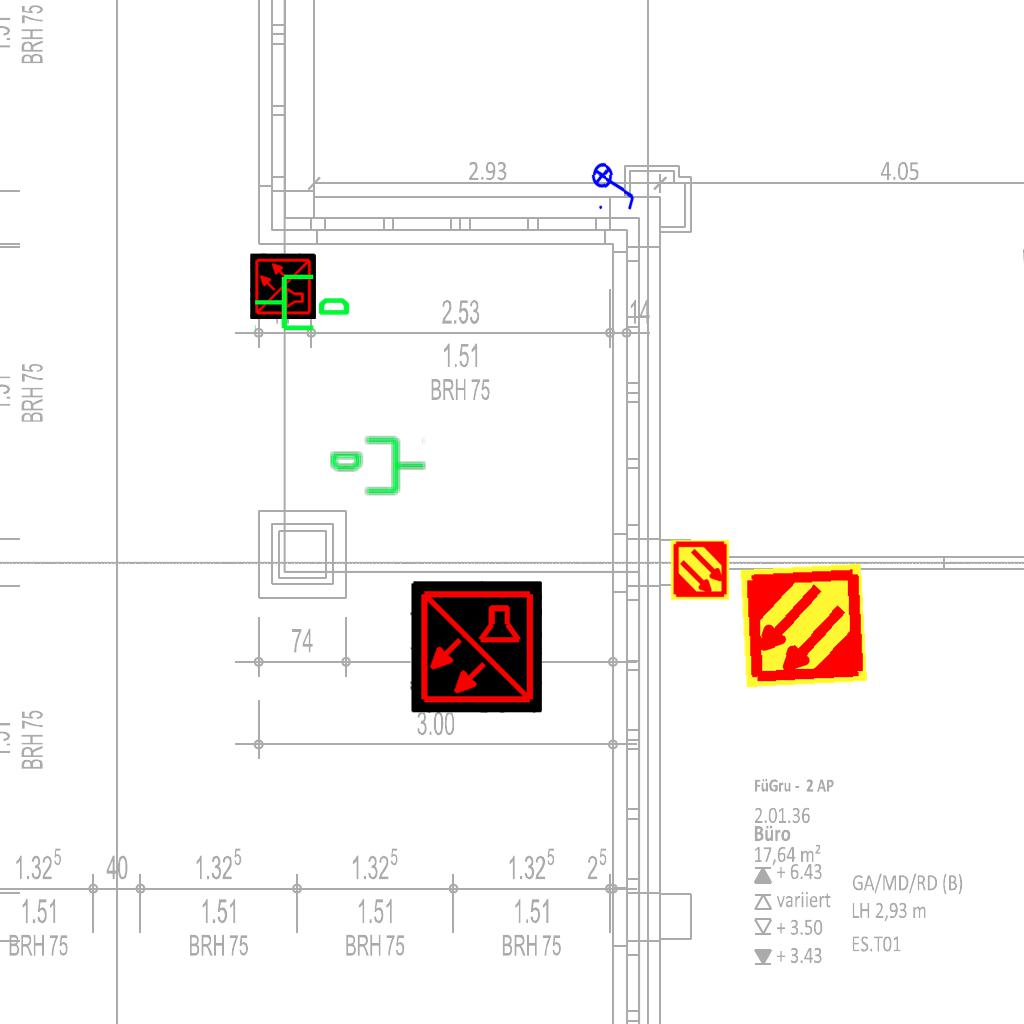ASR_Ansaugrauchmelder: (737, 559, 870, 692), (669, 539, 731, 601)
Ausschalter_beleuchtet: (589, 155, 641, 215)
Datenanschluss_einfach: (328, 433, 428, 502), (252, 266, 352, 335)
OKW_Multisensormelder_(Kombination_optischer_Rauch-Kahlenmonoxid_Waerme-Melder): (410, 581, 542, 713), (250, 253, 316, 319)
